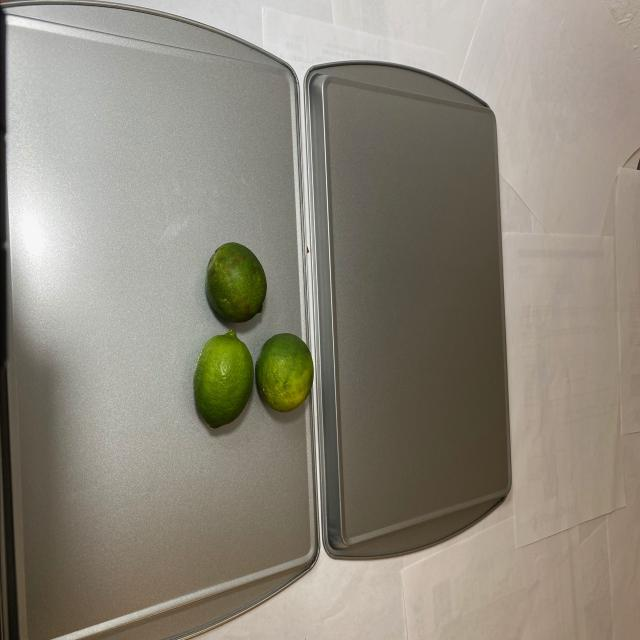lemon: (191, 235, 312, 438)
